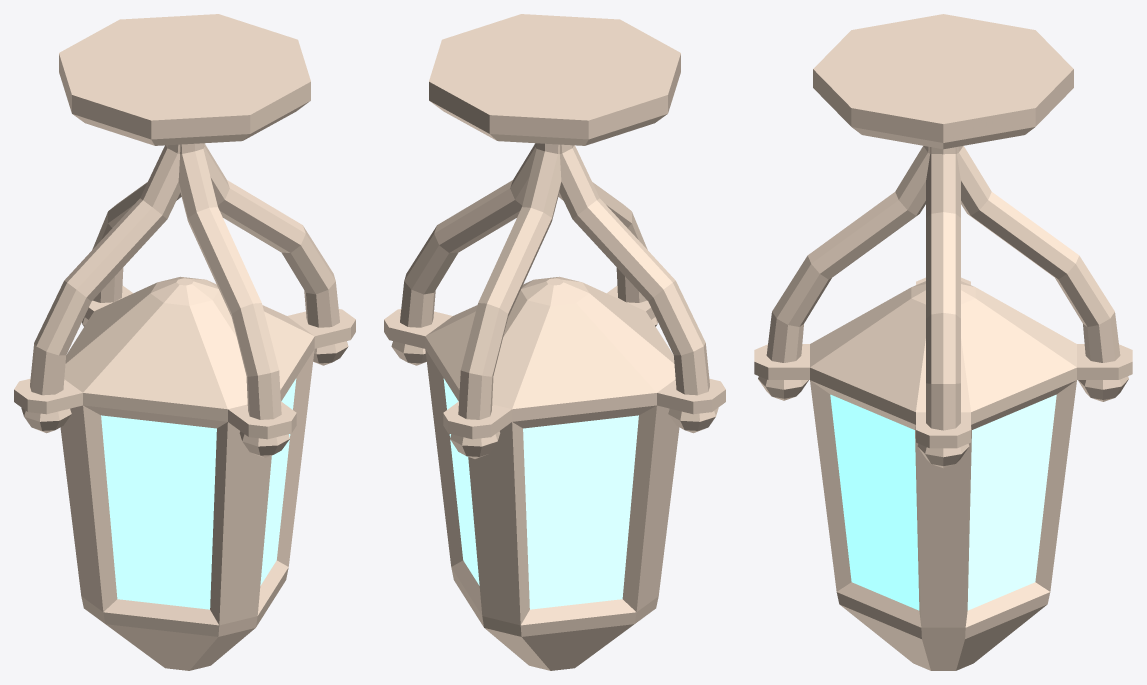
The model's file is Lamp_Ceiling.fbx.
3 renders of one model, left to right at view 1: azimuth 30°, elevation 25°; view 2: azimuth 150°, elevation 25°; view 3: azimuth 270°, elevation 25°, orthographic.
Visible parts, largest first — view 1: Lamp_Ceiling _LOD0; view 2: Lamp_Ceiling _LOD0; view 3: Lamp_Ceiling _LOD0.
Part boxes in pixels (<box>): Lamp_Ceiling _LOD0: <box>14,14,355,670</box>; Lamp_Ceiling _LOD0: <box>384,14,725,670</box>; Lamp_Ceiling _LOD0: <box>754,14,1132,670</box>.
Size of what is drawn, in the model's own units: 0.2721 by 0.4725 by 0.2721.
